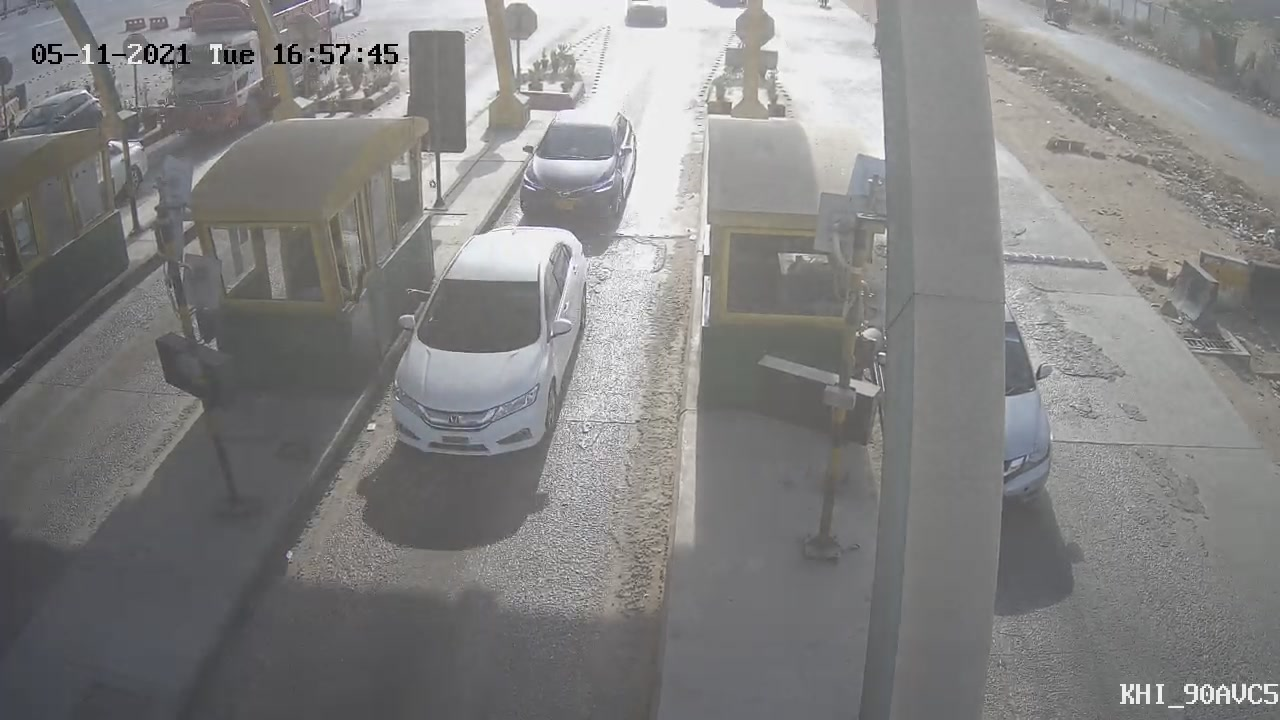F1: (366, 213, 604, 477), (499, 92, 651, 238)
